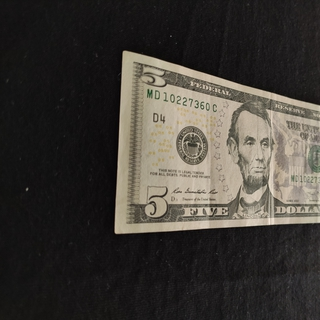5USDFront: (114, 50, 320, 236)
